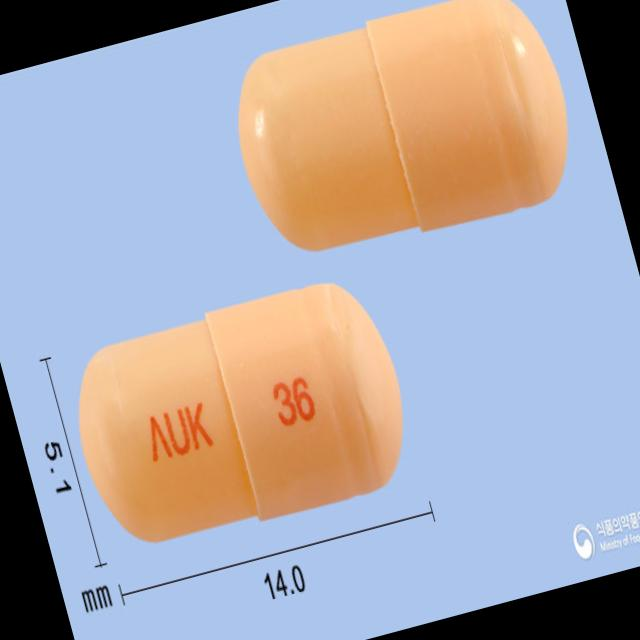Ausfixime Cap: (52, 263, 428, 567)
